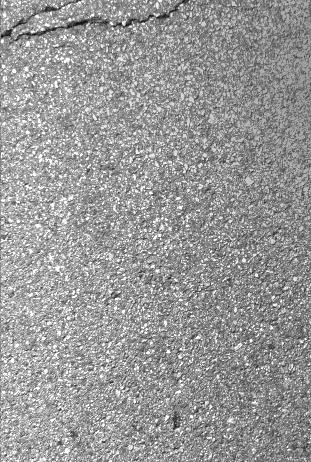crack: (0, 0, 191, 48)
